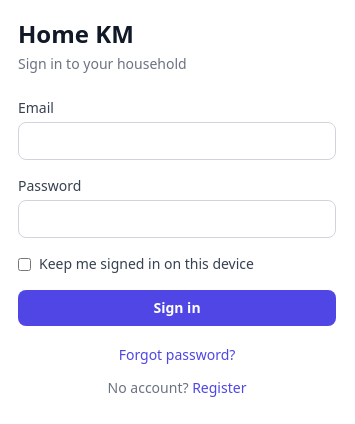
Test: LoginPage › shows validation error when password is empty
The width and height of the screenshot is (355, 424).
Type "a@b.com" into the field named "email" at (177, 141), box [18,122,336,160]
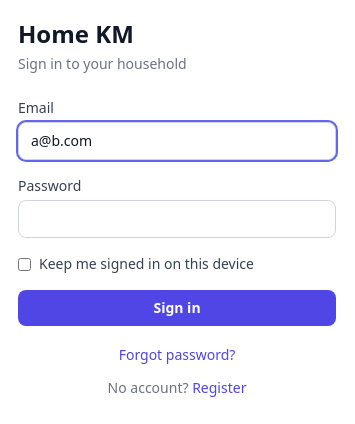
Click the button "Sign in" at (177, 308), box [18,290,336,326]
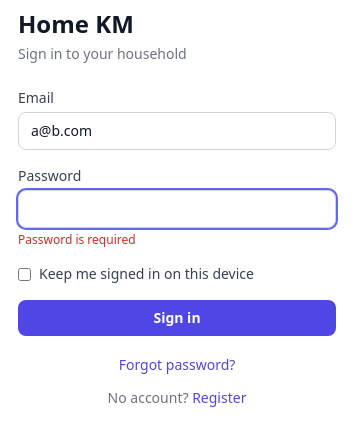
Expected: the text "Password is required" is shown, [18,231,136,248]
